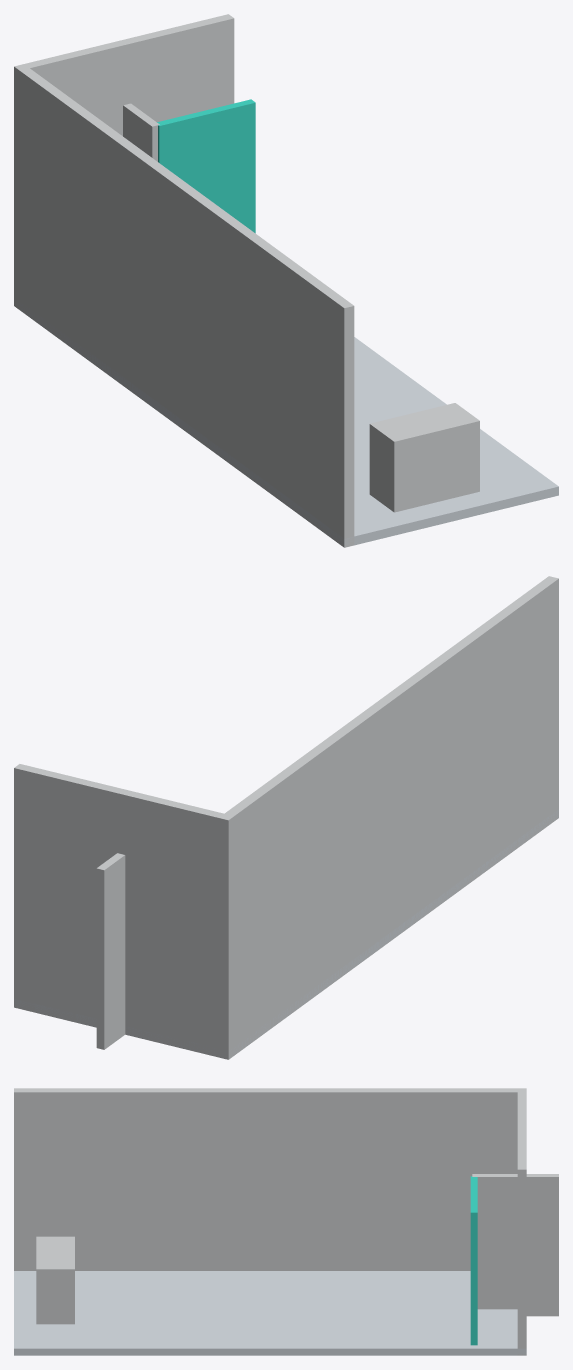
The picture shows the model from 3 angles, top to bottom: view 1: azimuth 30°, elevation 25°; view 2: azimuth 150°, elevation 25°; view 3: azimuth 270°, elevation 25°; orthographic projection. The views are drawn at different scales.
Visible parts, largest first — view 1: Exhibition Booth Concept; view 2: Exhibition Booth Concept; view 3: Exhibition Booth Concept.
Part boxes in pixels (x1,y1,x2,y2): Exhibition Booth Concept: (14,14,558,547); Exhibition Booth Concept: (14,576,558,1059); Exhibition Booth Concept: (14,1088,558,1355).
Bounding box in the file's own units: 3 × 3.2 × 8.51.
